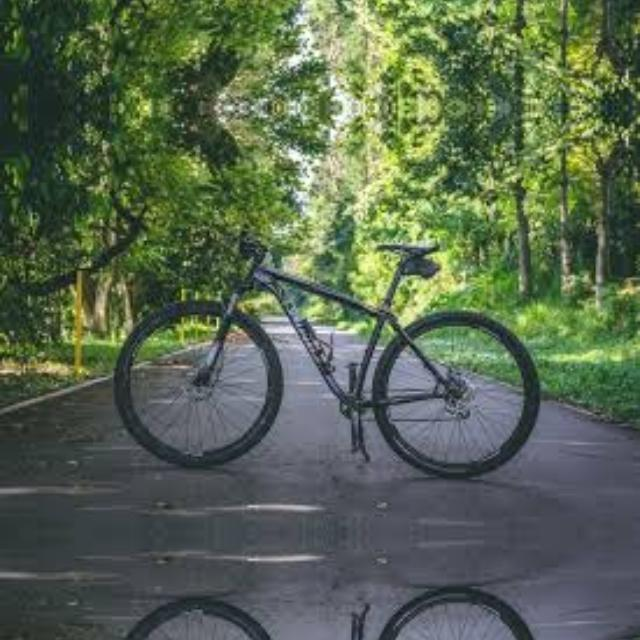obstacle: (108, 215, 554, 490), (107, 576, 554, 640)
